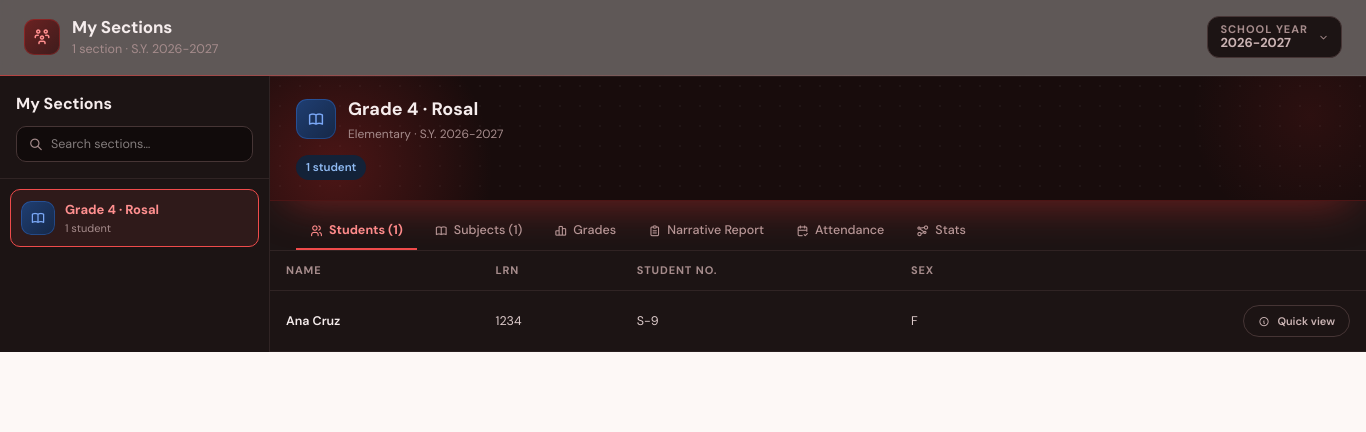
TeacherSectionsPage — dark mode › shows the grades grid
Click the button "Grades" at point(585, 231), box [540, 213, 630, 250]
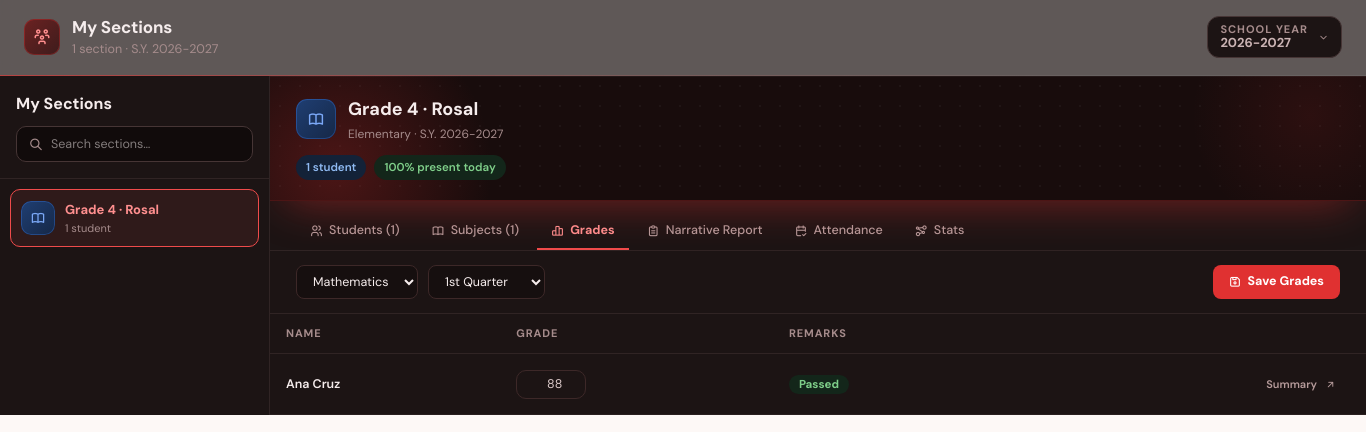
Expected: the number field named "Grade for Ana Cruz" is shown, [516, 370, 586, 399]
